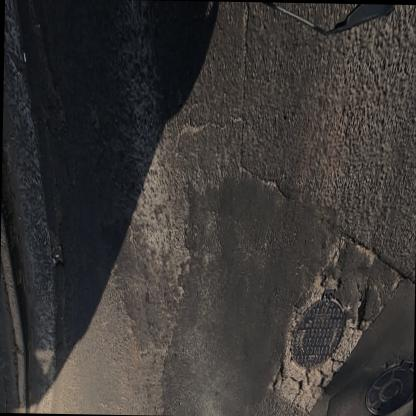manholes: (284, 284, 348, 388), (360, 349, 413, 416)
